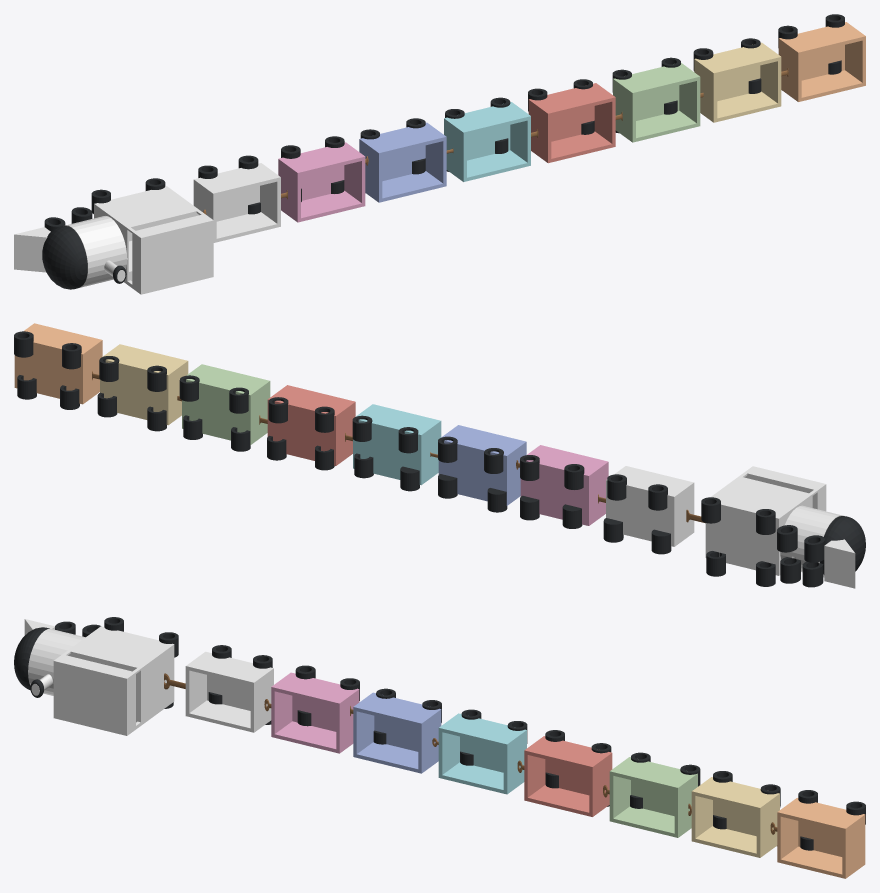
Rendered from tinker.obj.
3 renders of one model, top to bottom at view 1: azimuth 30°, elevation 25°; view 2: azimuth 150°, elevation 25°; view 3: azimuth 330°, elevation 25°, orthographic.
Visible parts, largest first — view 1: group_0_16448250, group_0_2829873, group_0_13165757, group_0_16500122, group_0_15308428, group_0_15708628, group_0_11593967, group_0_16311991, group_0_11452141; view 2: group_0_2829873, group_0_16448250, group_0_13165757, group_0_11593967, group_0_16500122, group_0_15308428, group_0_15708628, group_0_16311991, group_0_11452141; view 3: group_0_16448250, group_0_2829873, group_0_16500122, group_0_11593967, group_0_16311991, group_0_11452141, group_0_15308428, group_0_13165757, group_0_15708628, group_0_11107152.
Boxes of the visible parts, box(x1,y1,x2,y2) form: group_0_16448250: box(14, 163, 280, 294); group_0_2829873: box(42, 14, 844, 289); group_0_13165757: box(613, 63, 700, 142); group_0_16500122: box(778, 22, 865, 101); group_0_15308428: box(528, 83, 615, 163); group_0_15708628: box(278, 142, 365, 222); group_0_11593967: box(444, 102, 530, 181); group_0_16311991: box(694, 42, 781, 122); group_0_11452141: box(359, 122, 446, 202); group_0_2829873: box(14, 331, 865, 587); group_0_16448250: box(606, 466, 855, 588); group_0_13165757: box(182, 364, 270, 444); group_0_11593967: box(353, 404, 441, 485); group_0_16500122: box(14, 323, 102, 404); group_0_15308428: box(267, 385, 355, 465); group_0_15708628: box(520, 445, 608, 525); group_0_16311991: box(100, 344, 188, 425); group_0_11452141: box(438, 425, 526, 505); group_0_16448250: box(24, 619, 273, 735); group_0_2829873: box(14, 617, 865, 850); group_0_16500122: box(777, 798, 865, 878); group_0_11593967: box(438, 713, 526, 794); group_0_16311991: box(691, 777, 779, 857); group_0_11452141: box(353, 692, 441, 773); group_0_15308428: box(524, 736, 612, 816); group_0_13165757: box(609, 757, 697, 837); group_0_15708628: box(271, 672, 359, 753); group_0_11107152: box(164, 673, 777, 834).
Size of the model in its own units: 492 by 40 by 56.
